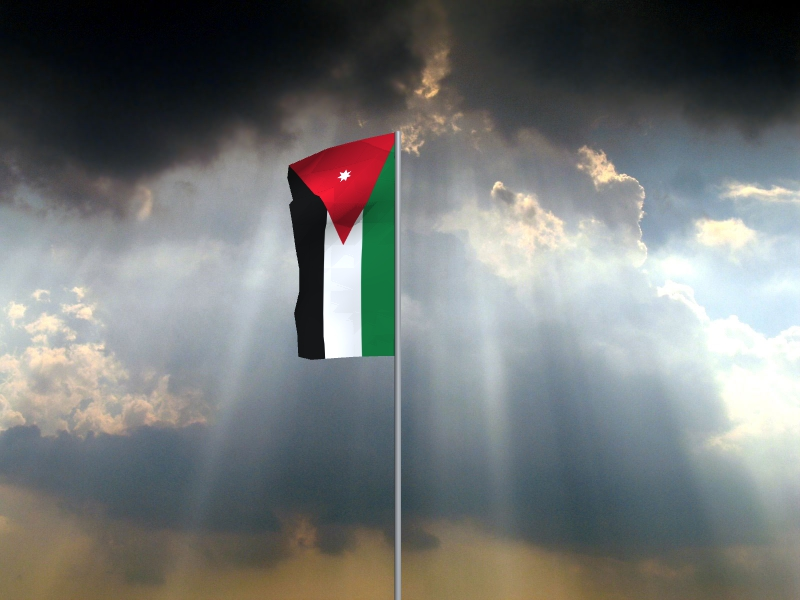jo: (286, 134, 395, 361)
